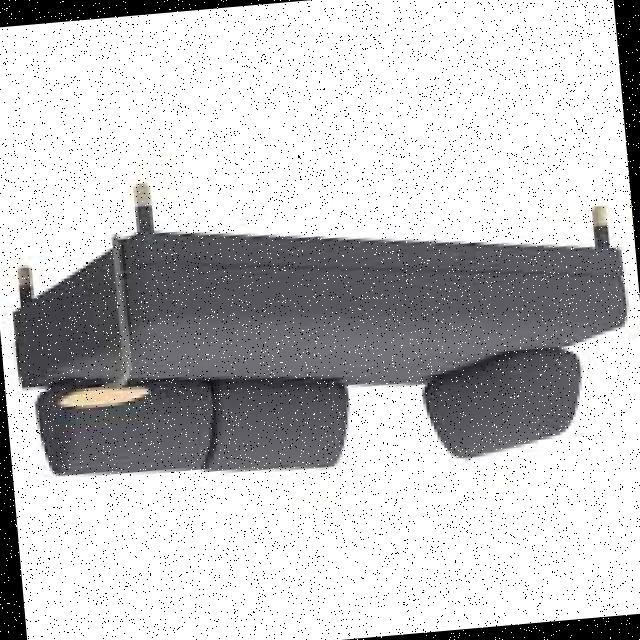Sofa: (1, 148, 639, 525)
